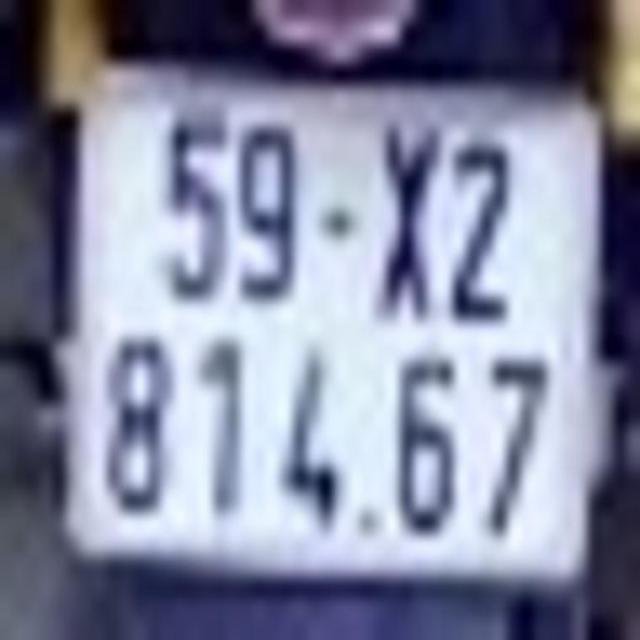1: (200, 335, 246, 523)
2: (451, 130, 528, 328)
4: (286, 336, 350, 551)
5: (162, 114, 228, 309)
6: (387, 342, 468, 548)
7: (478, 351, 561, 548)
8: (100, 337, 173, 522)
9: (233, 115, 303, 308)
X: (360, 114, 444, 327)
